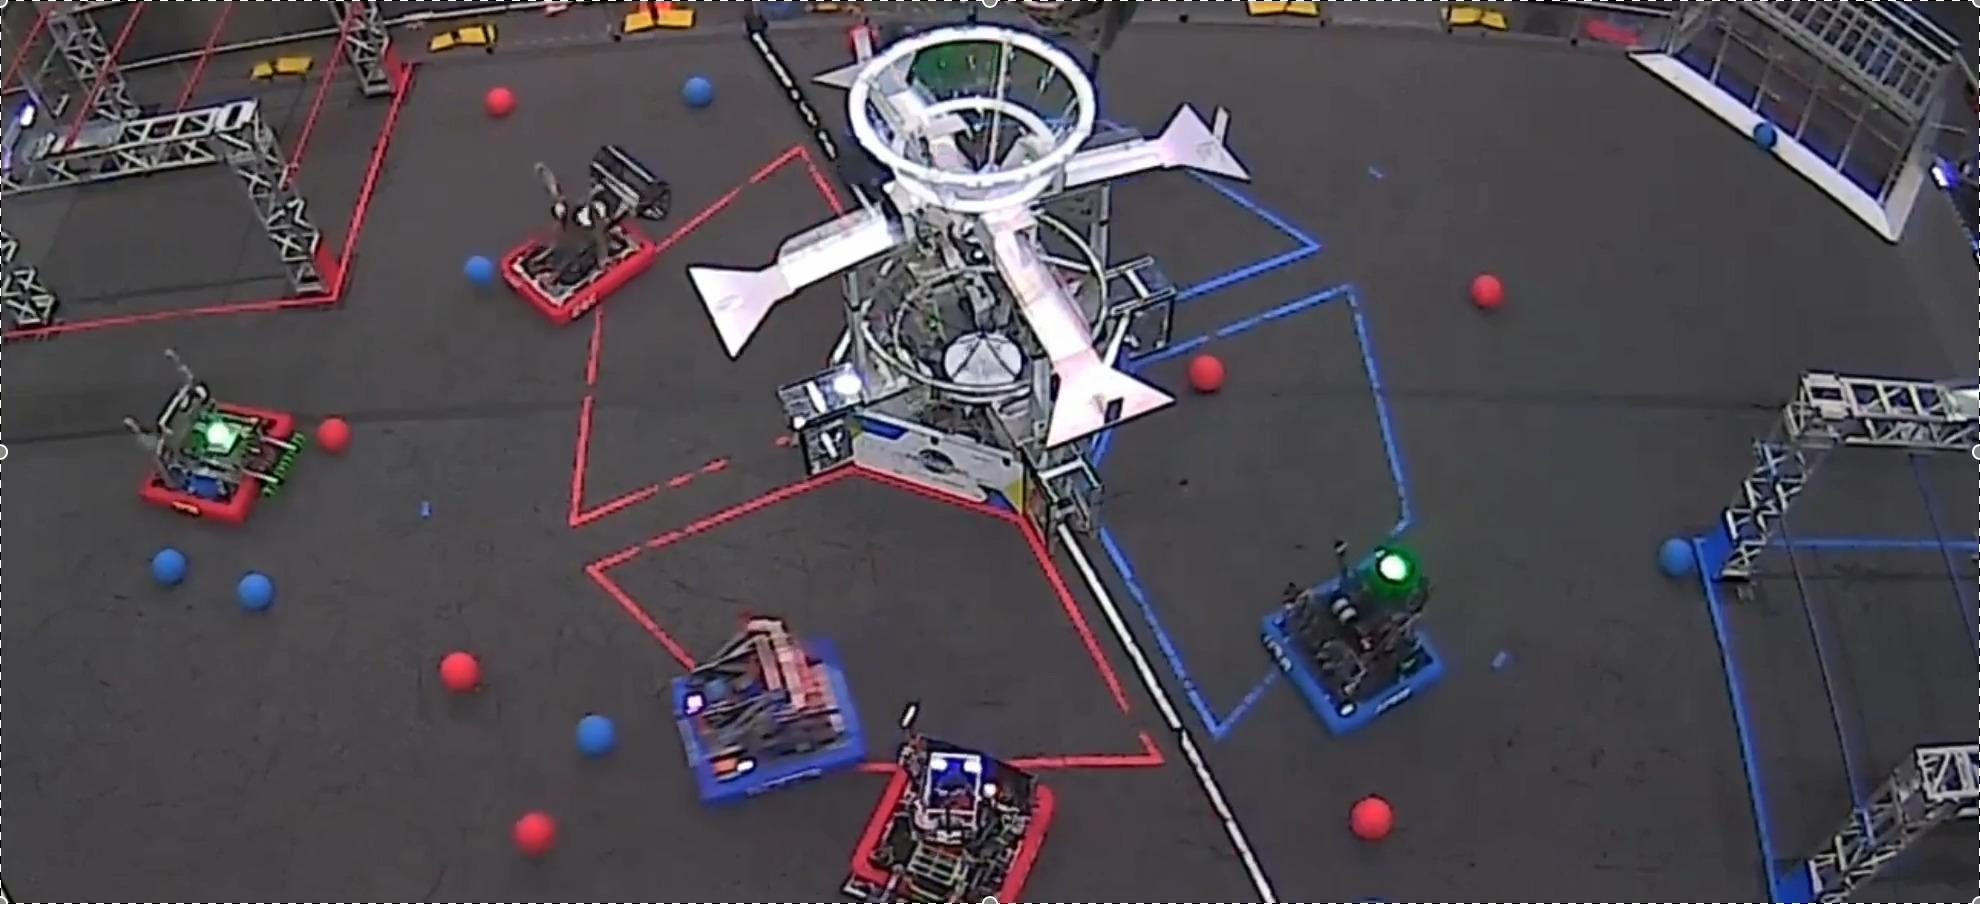Robots: (842, 705, 1054, 899), (671, 616, 864, 800), (1261, 542, 1441, 734), (122, 350, 303, 523), (503, 145, 671, 322)
